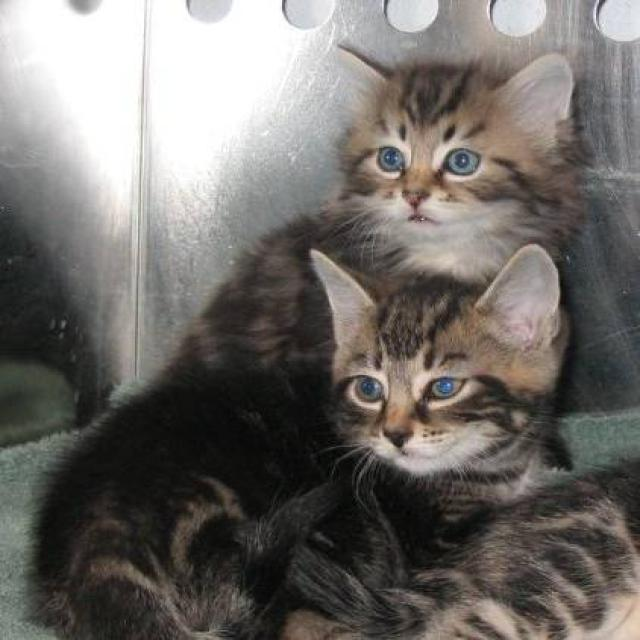cat: (270, 240, 638, 638)
